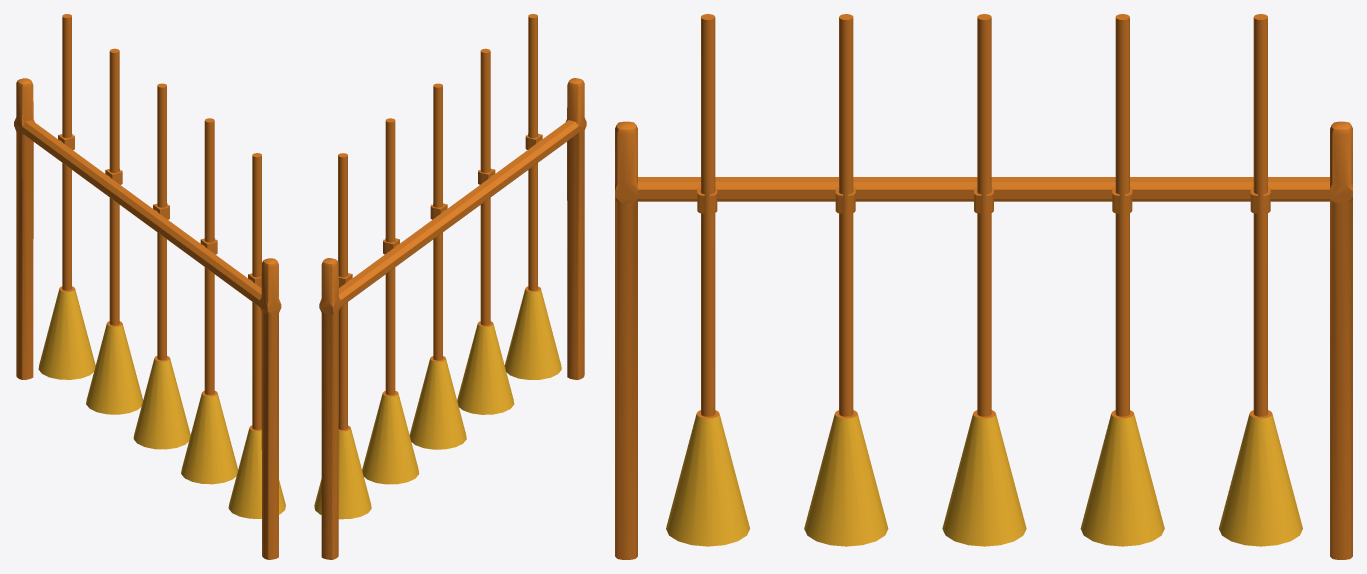
File: BroomStand.fbx
3 views of the same model, side by side, from view 1: azimuth 30°, elevation 25°; view 2: azimuth 150°, elevation 25°; view 3: azimuth 270°, elevation 25° (orthographic). The views are drawn at different scales.
Visible parts, largest first — view 1: BroomStand; view 2: BroomStand; view 3: BroomStand.
Part boxes in pixels (left/top/right/bottom): BroomStand: left=14, top=14, right=285, bottom=559; BroomStand: left=314, top=14, right=586, bottom=559; BroomStand: left=615, top=14, right=1352, bottom=559.
Size of the model in its own units: 16.34 by 117 by 143.
